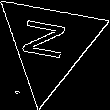N_E: (23, 19, 76, 68)
